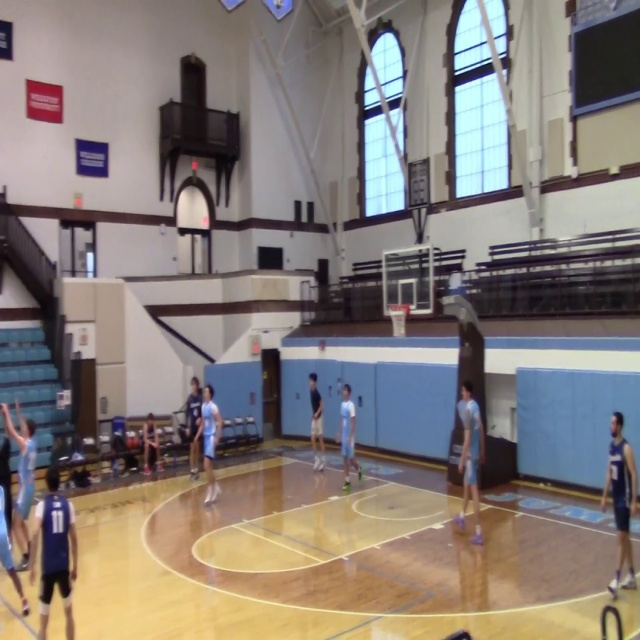Basketball: (124, 430, 139, 449)
